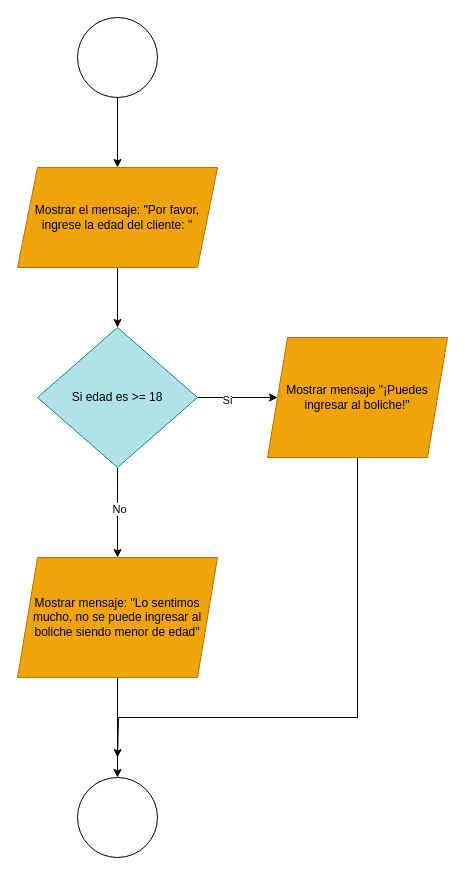
The diagram is 465 pixels wide and 875 high, and some of its shapes have lost their labels. The shapes that lost their labels are listed below. From the top down, each one's box as (x1, y1, x2, y2) in pixels, then its label:
(76, 16, 158, 98): Inicio
(76, 776, 158, 858): Fin
